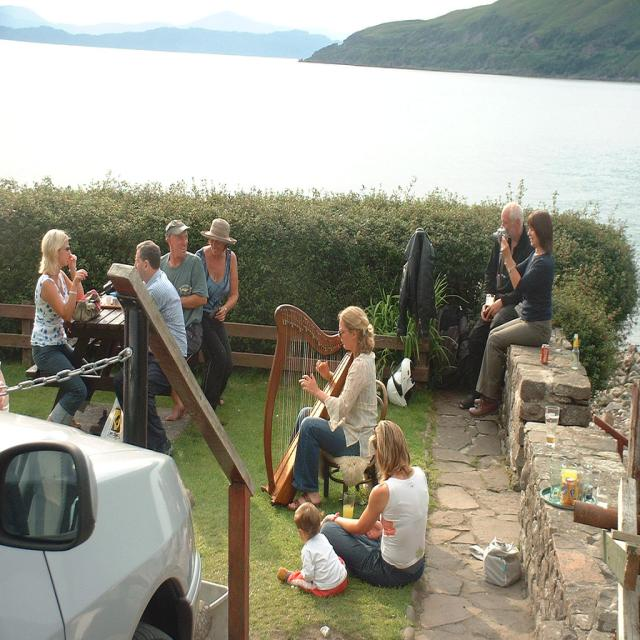harp: (260, 302, 354, 508)
